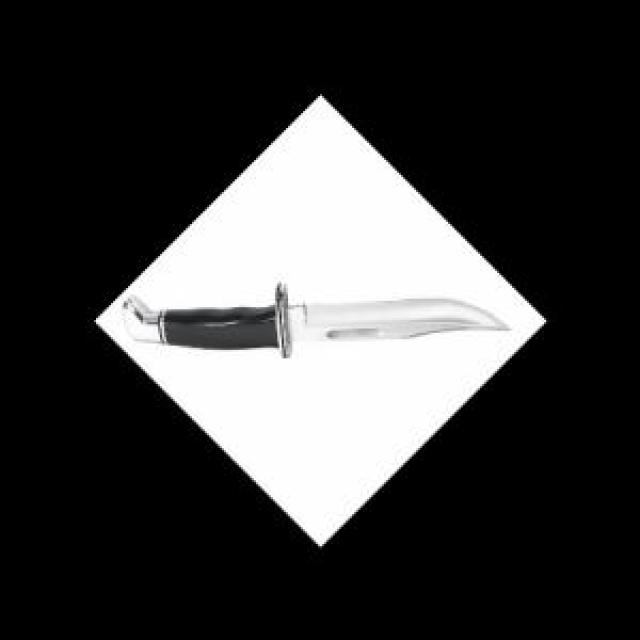knife: (120, 292, 514, 358)
